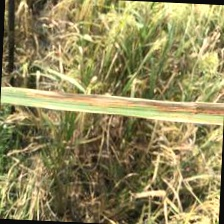Leaf_Blast: (20, 91, 216, 115)
